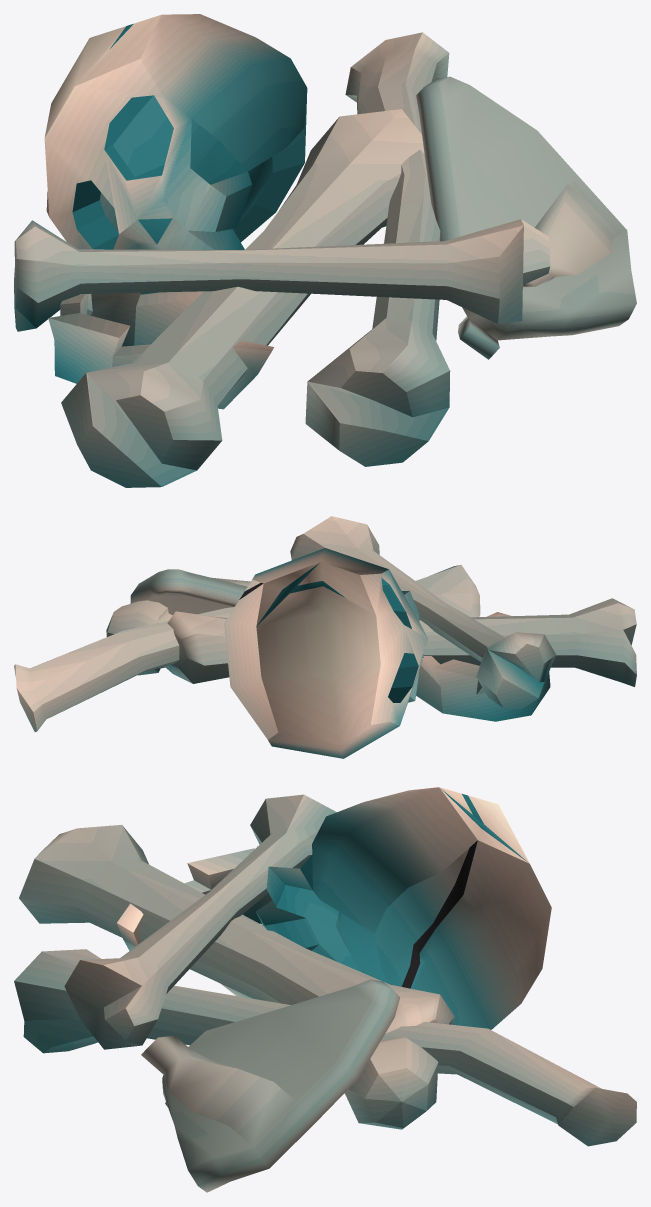
The model's file is Bone_Pile2.fbx.
The picture shows the model from 3 angles, top to bottom: view 1: azimuth 30°, elevation 25°; view 2: azimuth 150°, elevation 25°; view 3: azimuth 270°, elevation 25°; orthographic projection. The views are drawn at different scales.
Visible parts, largest first — view 1: Bone_Pile2; view 2: Bone_Pile2; view 3: Bone_Pile2.
Part boxes in pixels (<box>): Bone_Pile2: <box>14,14,636,487</box>; Bone_Pile2: <box>14,516,636,758</box>; Bone_Pile2: <box>14,787,636,1192</box>.
Size of the model in its own units: 2.79 by 1.26 by 2.67.
